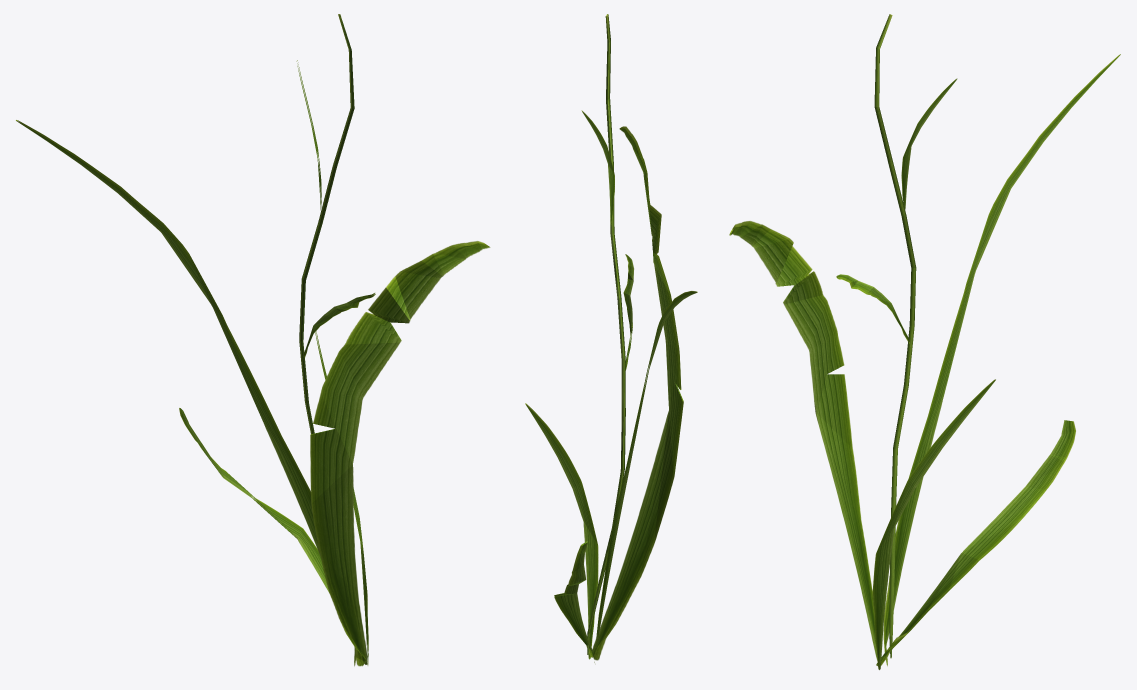
File: grass_01.glb
The picture shows the model from 3 angles, left to right: view 1: azimuth 30°, elevation 25°; view 2: azimuth 150°, elevation 25°; view 3: azimuth 270°, elevation 25°; orthographic projection.
Parts seen in each view (by area): view 1: Pasto compuesto 2; view 2: Pasto compuesto 2; view 3: Pasto compuesto 2.
Boxes of the visible parts, bbox=[...] form: Pasto compuesto 2: bbox=[16, 14, 490, 666]; Pasto compuesto 2: bbox=[525, 14, 697, 662]; Pasto compuesto 2: bbox=[729, 14, 1120, 669].
Size of the model in its own units: 0.5887 by 1.33 by 0.7283.
Materials: 2 (2 with a texture image).
